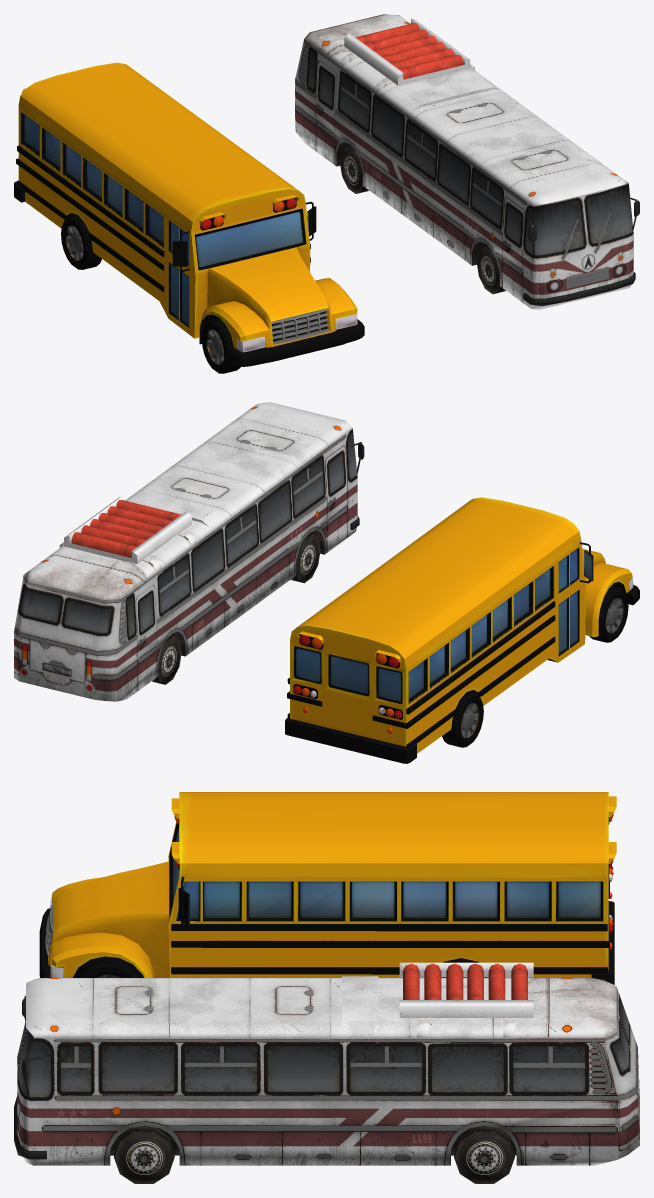
File: trafic buses.fbx
3 views of the same model, one above another, from view 1: azimuth 30°, elevation 25°; view 2: azimuth 150°, elevation 25°; view 3: azimuth 270°, elevation 25° (orthographic). The views are drawn at different scales.
Parts seen in each view (by area): view 1: _gltfNode_0, laz-669_laz699_0; view 2: laz-669_laz699_0, _gltfNode_0; view 3: laz-669_laz699_0, _gltfNode_0.
Boxes of the visible parts, x1,y1,x2,y2 form: _gltfNode_0: (14,62,364,373); laz-669_laz699_0: (295,14,639,309); laz-669_laz699_0: (14,402,364,701); _gltfNode_0: (285,497,639,763); laz-669_laz699_0: (14,962,639,1183); _gltfNode_0: (39,792,616,984).
Size of the model in its own units: 1315 by 436 by 1427.
Materials: 2 (2 with a texture image).
